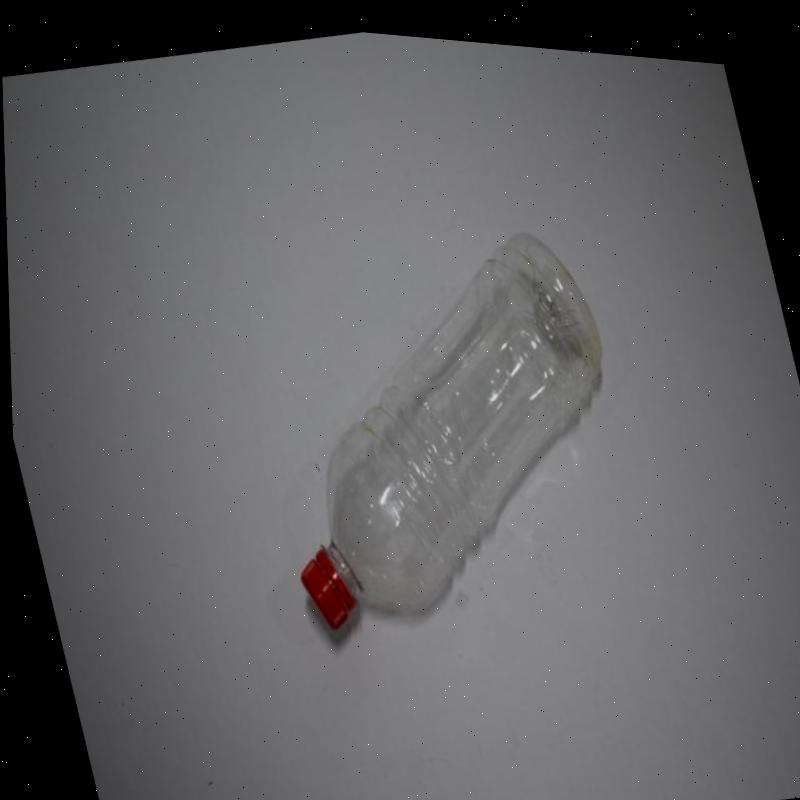botella: (224, 188, 657, 647)
